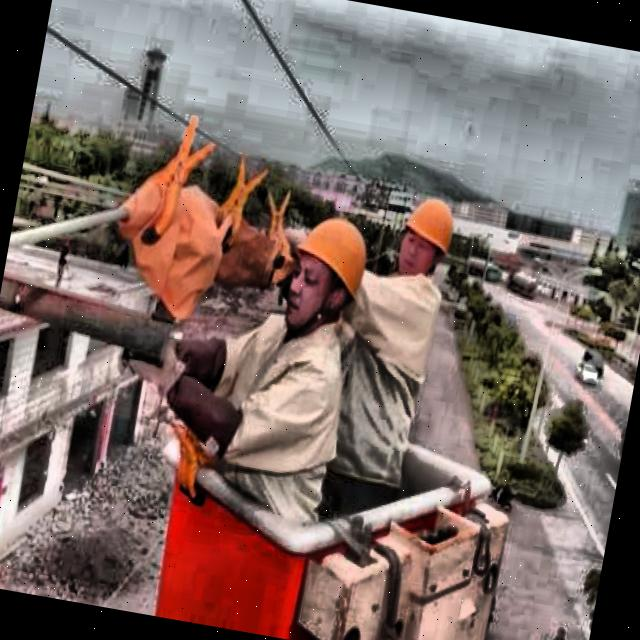helmet: (274, 199, 384, 341), (390, 185, 462, 288)
